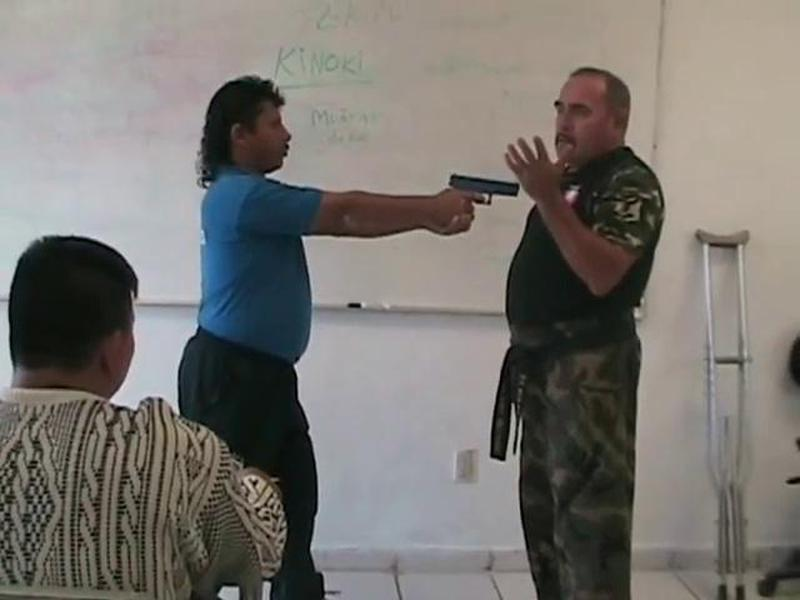Pistola: (430, 168, 532, 248)
